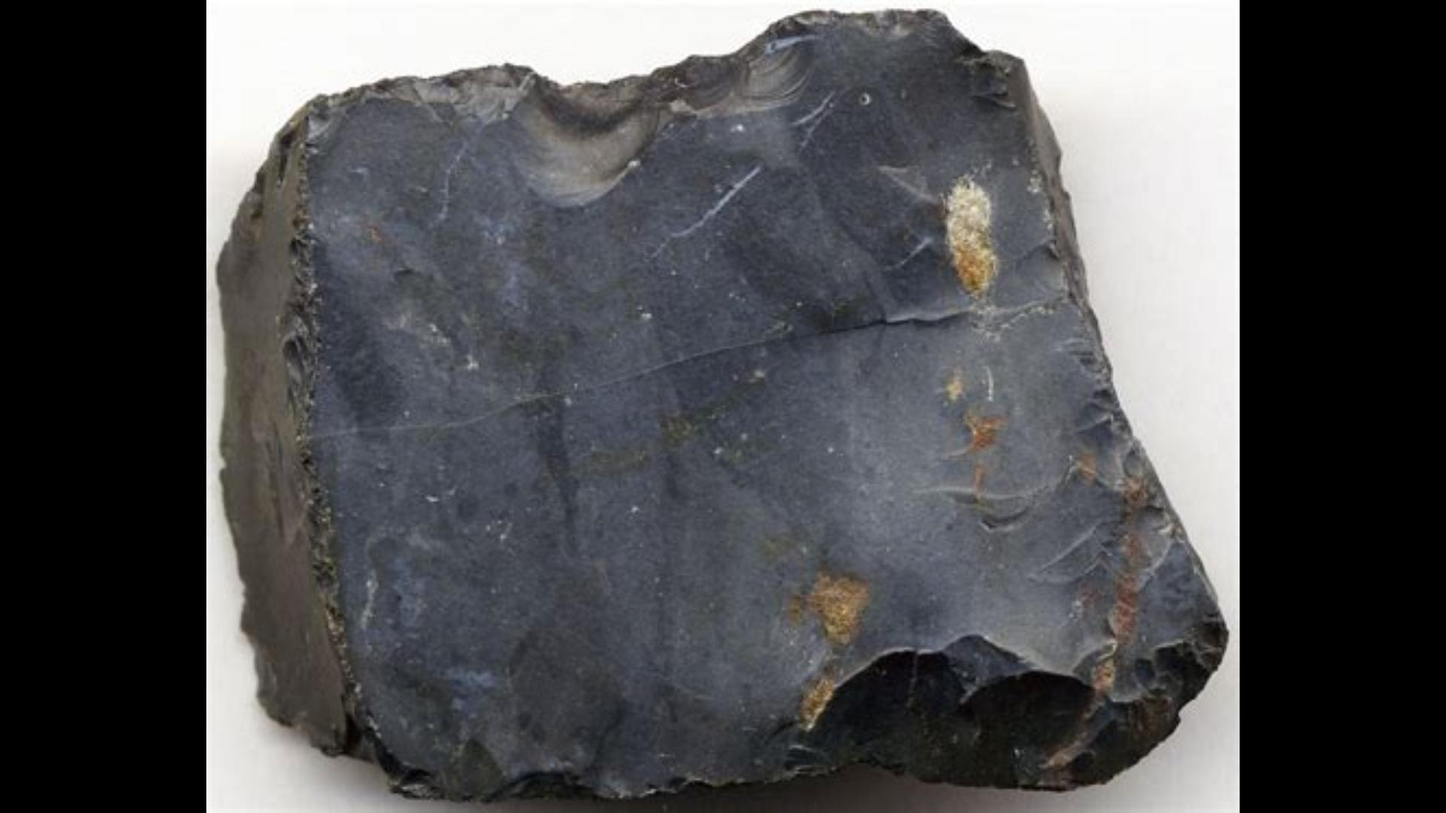rock: (219, 13, 1223, 798)
